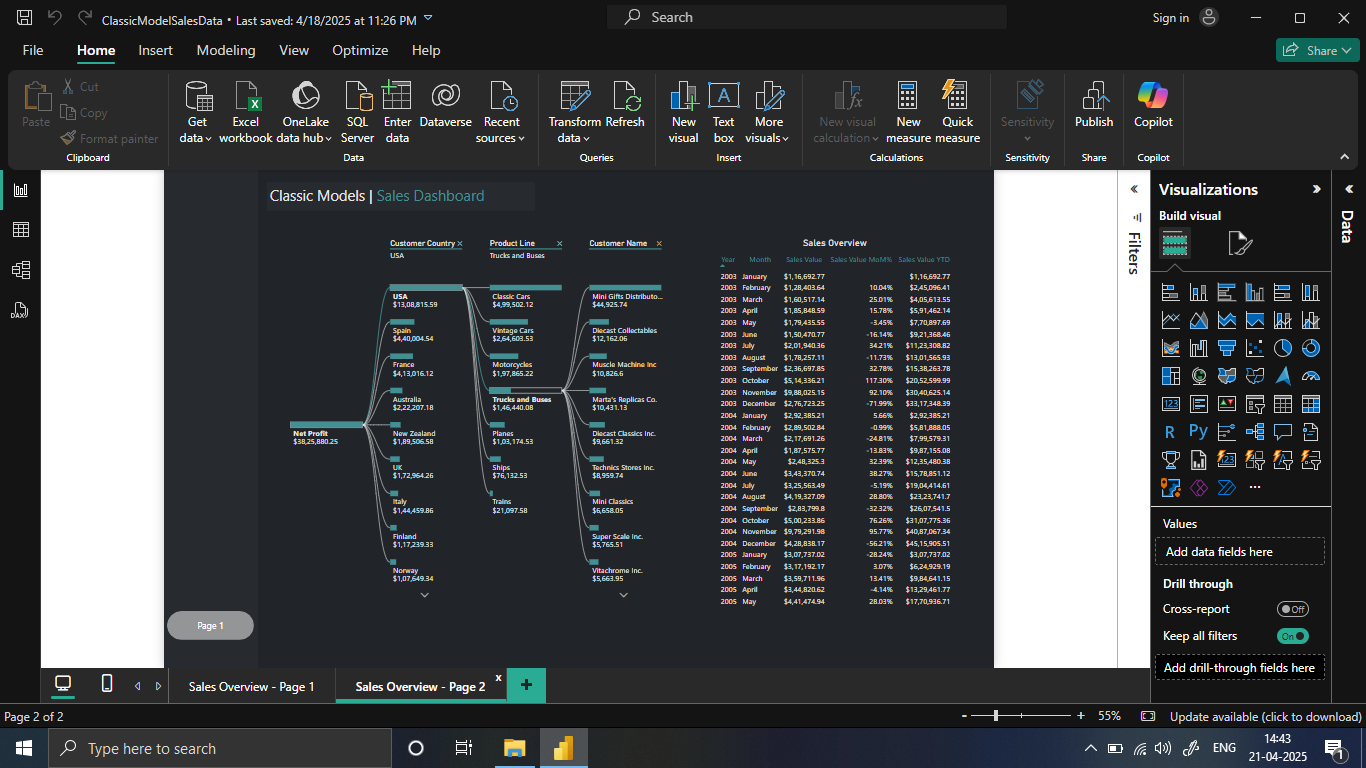

The page's visual inventory and layout, read from the dashboard file:
{"tool":"powerbi","page":{"name":"Sales Overview  - Page 2","canvas":[1500,900],"ordinal":1},"visuals":[{"type":"shape","box":[0,0,170,900],"z":0},{"type":"decompositionTreeVisual","fields":{"Analyze":["classicmodels sales_data_for_power_bi.Net Profit"],"ExplainBy":["classicmodels sales_data_for_power_bi.customer_country","classicmodels sales_data_for_power_bi.productLine","classicmodels sales_data_for_power_bi.customerName"]},"box":[198.8,106.6,733.7,686.7],"z":1000},{"type":"textbox","box":[186.1,21.7,484.3,52.4],"z":2000},{"type":"tableEx","title":"Sales Overview ","fields":{"Values":["classicmodels sales_data_for_power_bi.orderDate.Variation.Date Hierarchy.Year","classicmodels sales_data_for_power_bi.orderDate.Variation.Date Hierarchy.Month","Sum(classicmodels sales_data_for_power_bi.sales_value)","classicmodels sales_data_for_power_bi.sales_value MoM%","classicmodels sales_data_for_power_bi.sales_value YTD"]},"box":[994,121.1,437.3,675.9],"z":3000},{"type":"actionButton","box":[5.4,797,157.2,52.4],"z":4000}]}

Visuals, with their boxes on the page's 1500x900 design canvas (x1, y1, x2, y2). These are canvas units, not pixel positions in the 1366x768 screenshot, which may show the page scaled, cropped or inside an application window:
shape: detection(0, 0, 170, 900)
decompositionTreeVisual - classicmodels sales_data_for_power_bi.Net Profit x classicmodels sales_data_for_power_bi.customer_country: detection(199, 107, 932, 793)
textbox: detection(186, 22, 670, 74)
"Sales Overview " tableEx: detection(994, 121, 1431, 797)
actionButton: detection(5, 797, 163, 849)
